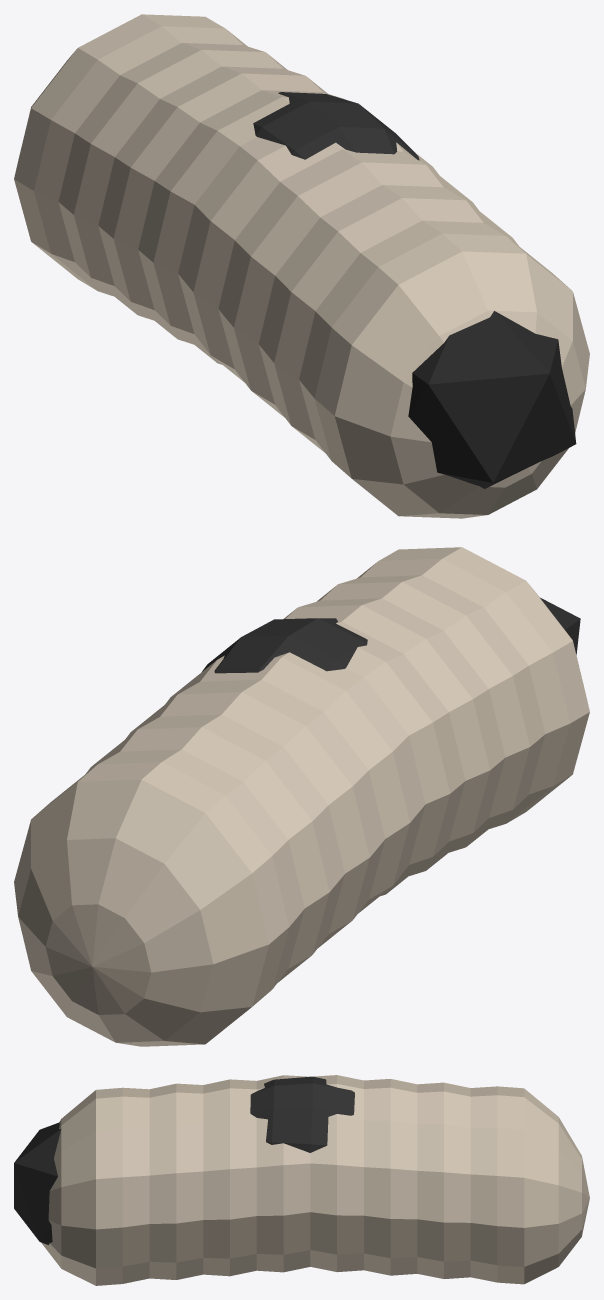
The model's file is karıncayumurta1.fbx.
3 renders of one model, top to bottom at view 1: azimuth 30°, elevation 25°; view 2: azimuth 150°, elevation 25°; view 3: azimuth 270°, elevation 25°, orthographic. The views are drawn at different scales.
Visible parts, largest first — view 1: Sphere; view 2: Sphere; view 3: Sphere.
Boxes of the visible parts, box(x1,y1,x2,y2) form: Sphere: box(14, 14, 589, 518); Sphere: box(14, 547, 589, 1046); Sphere: box(14, 1075, 589, 1285).
Bounding box in the file's own units: 186 × 204 × 541.
